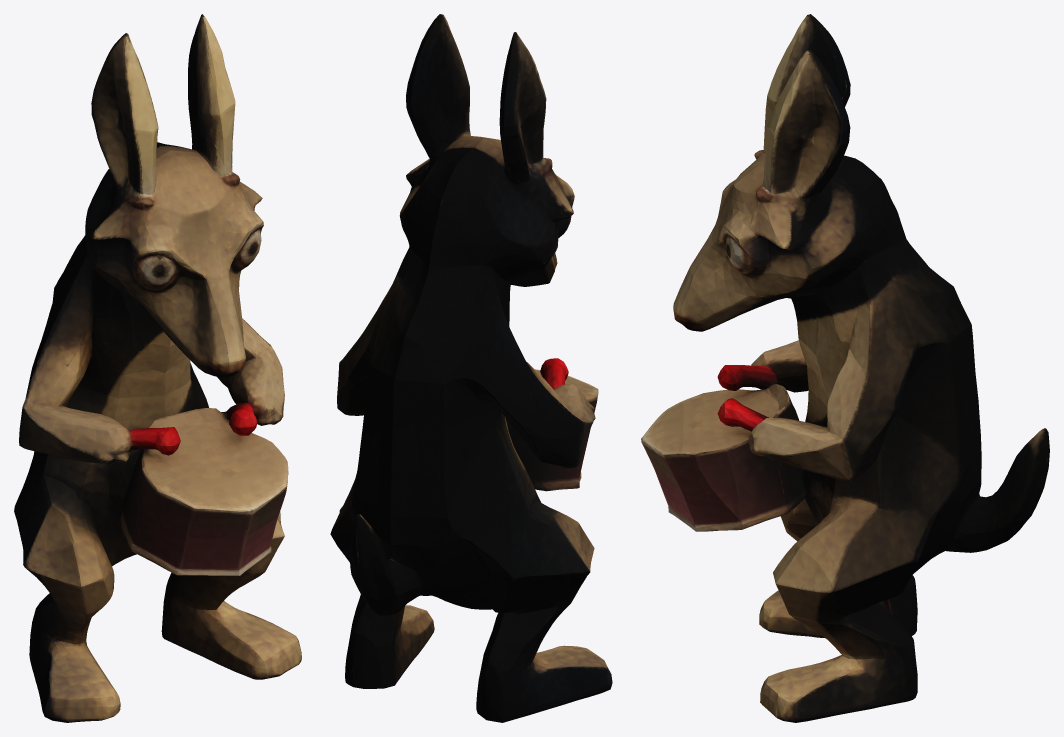
Rendered from sample.glb.
3 views of the same model, side by side, from view 1: azimuth 30°, elevation 25°; view 2: azimuth 150°, elevation 25°; view 3: azimuth 270°, elevation 25° (orthographic). The views are drawn at different scales.
Parts seen in each view (by area): view 1: world; view 2: world; view 3: world.
Boxes of the visible parts, <box> form: world: <box>14,14,301,722</box>; world: <box>330,14,612,722</box>; world: <box>641,14,1049,722</box>.
Size of the model in its own units: 0.4087 by 1 by 0.5848.
Materials: 1 (1 with a texture image).
